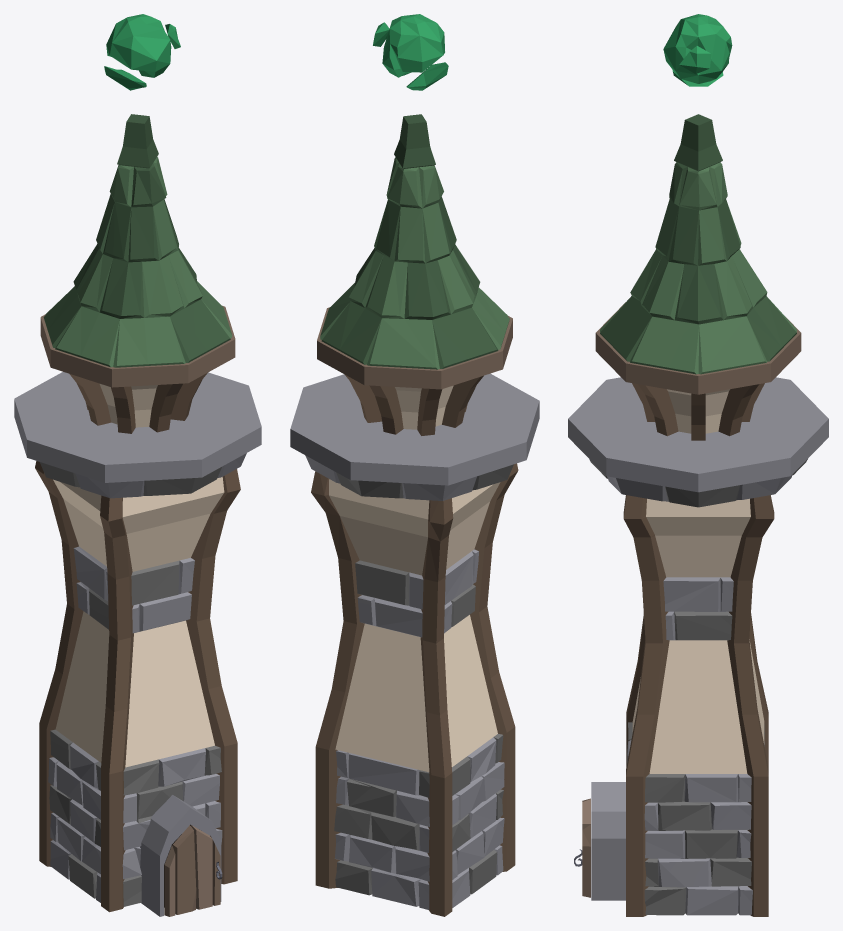
File: Wizard_Tower_lv1.gltf
3 renders of one model, left to right at view 1: azimuth 30°, elevation 25°; view 2: azimuth 150°, elevation 25°; view 3: azimuth 270°, elevation 25°, orthographic.
Parts seen in each view (by area): view 1: Wizard_Tower_LVL_1_Body, Wizard_Tower_LVL_1_Head; view 2: Wizard_Tower_LVL_1_Body, Wizard_Tower_LVL_1_Head; view 3: Wizard_Tower_LVL_1_Body, Wizard_Tower_LVL_1_Head.
Part boxes in pixels (x1=…): Wizard_Tower_LVL_1_Body: x1=14, y1=114, x2=261, y2=916; Wizard_Tower_LVL_1_Head: x1=104, y1=14, x2=180, y2=90; Wizard_Tower_LVL_1_Body: x1=290, y1=114, x2=539, y2=916; Wizard_Tower_LVL_1_Head: x1=373, y1=14, x2=448, y2=90; Wizard_Tower_LVL_1_Body: x1=568, y1=114, x2=828, y2=916; Wizard_Tower_LVL_1_Head: x1=663, y1=14, x2=732, y2=86.
Size of the model in its own units: 2.76 by 10.14 by 2.76.
2 materials, 2 textured.
